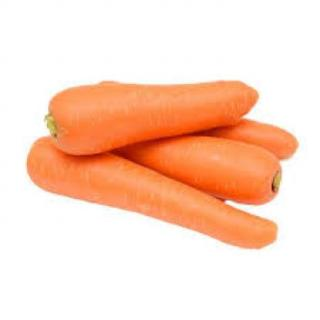Wortel: (27, 136, 278, 249), (48, 80, 260, 157)
